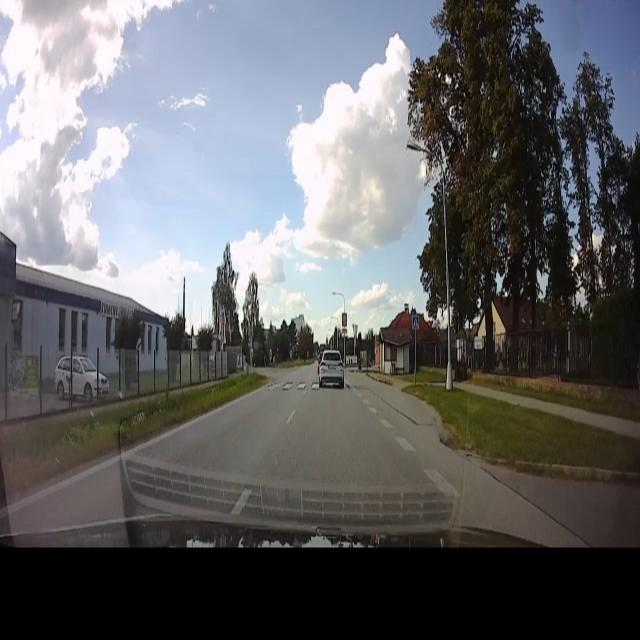Pedestrian crosswalk: (265, 377, 353, 394), (411, 314, 420, 331)
